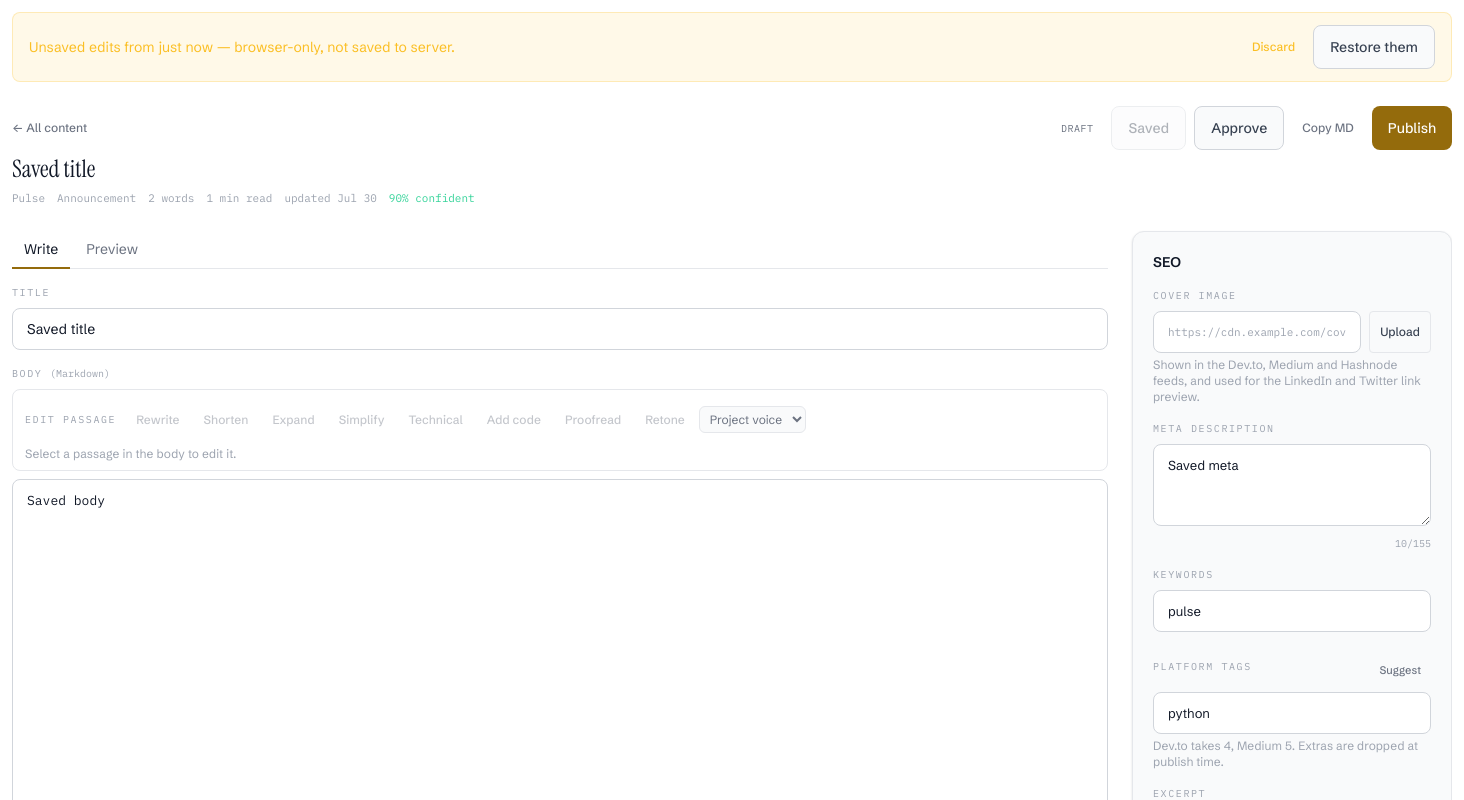
recovering unsaved work › drops the buffer when the offer is declined
The image size is (1464, 800).
Check: the message is shown, box x1=12 y1=12 x2=1452 y2=82
Click the button "Discard" at (1274, 47), box x1=1242 y1=25 x2=1305 y2=69
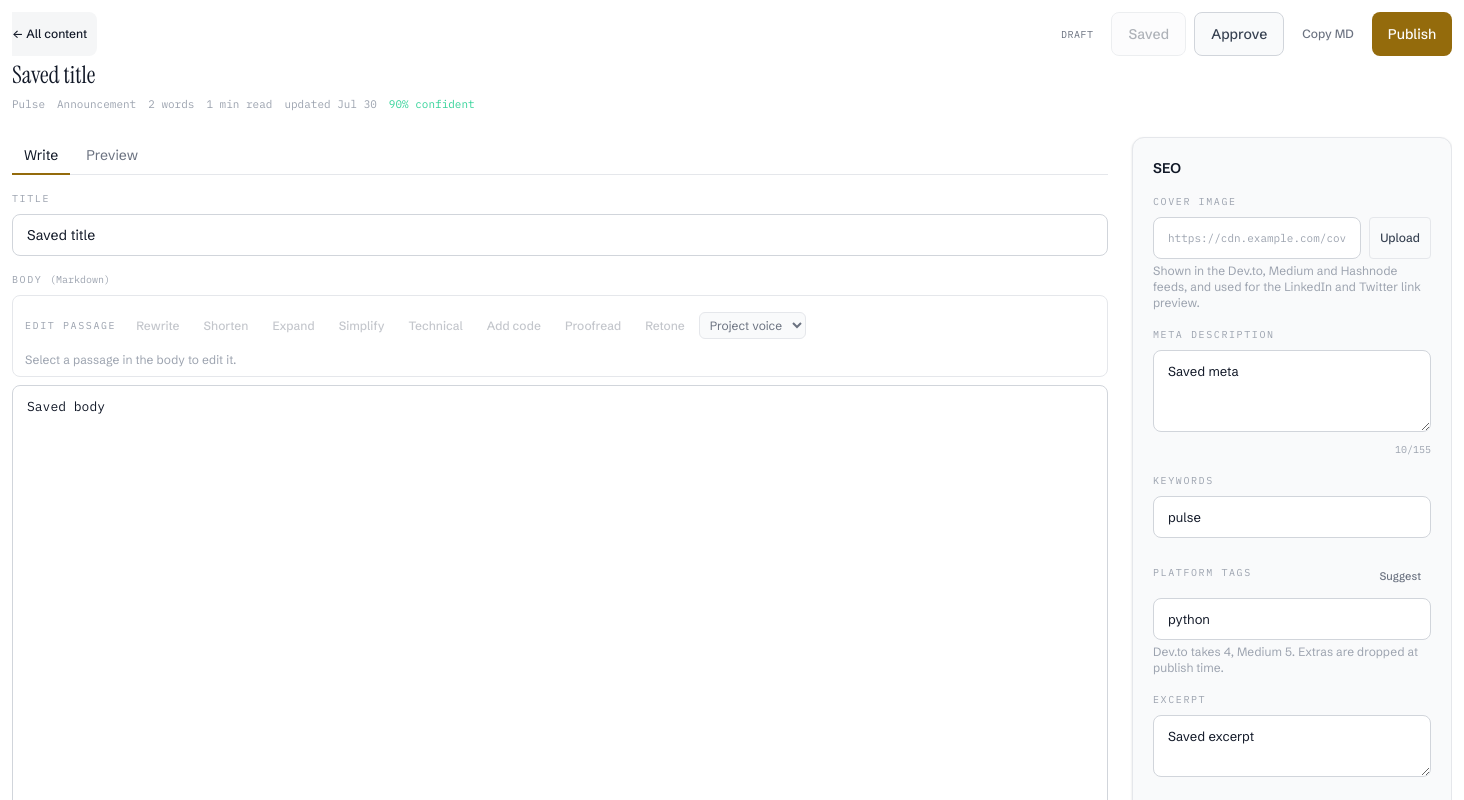
Check: the message is gone
